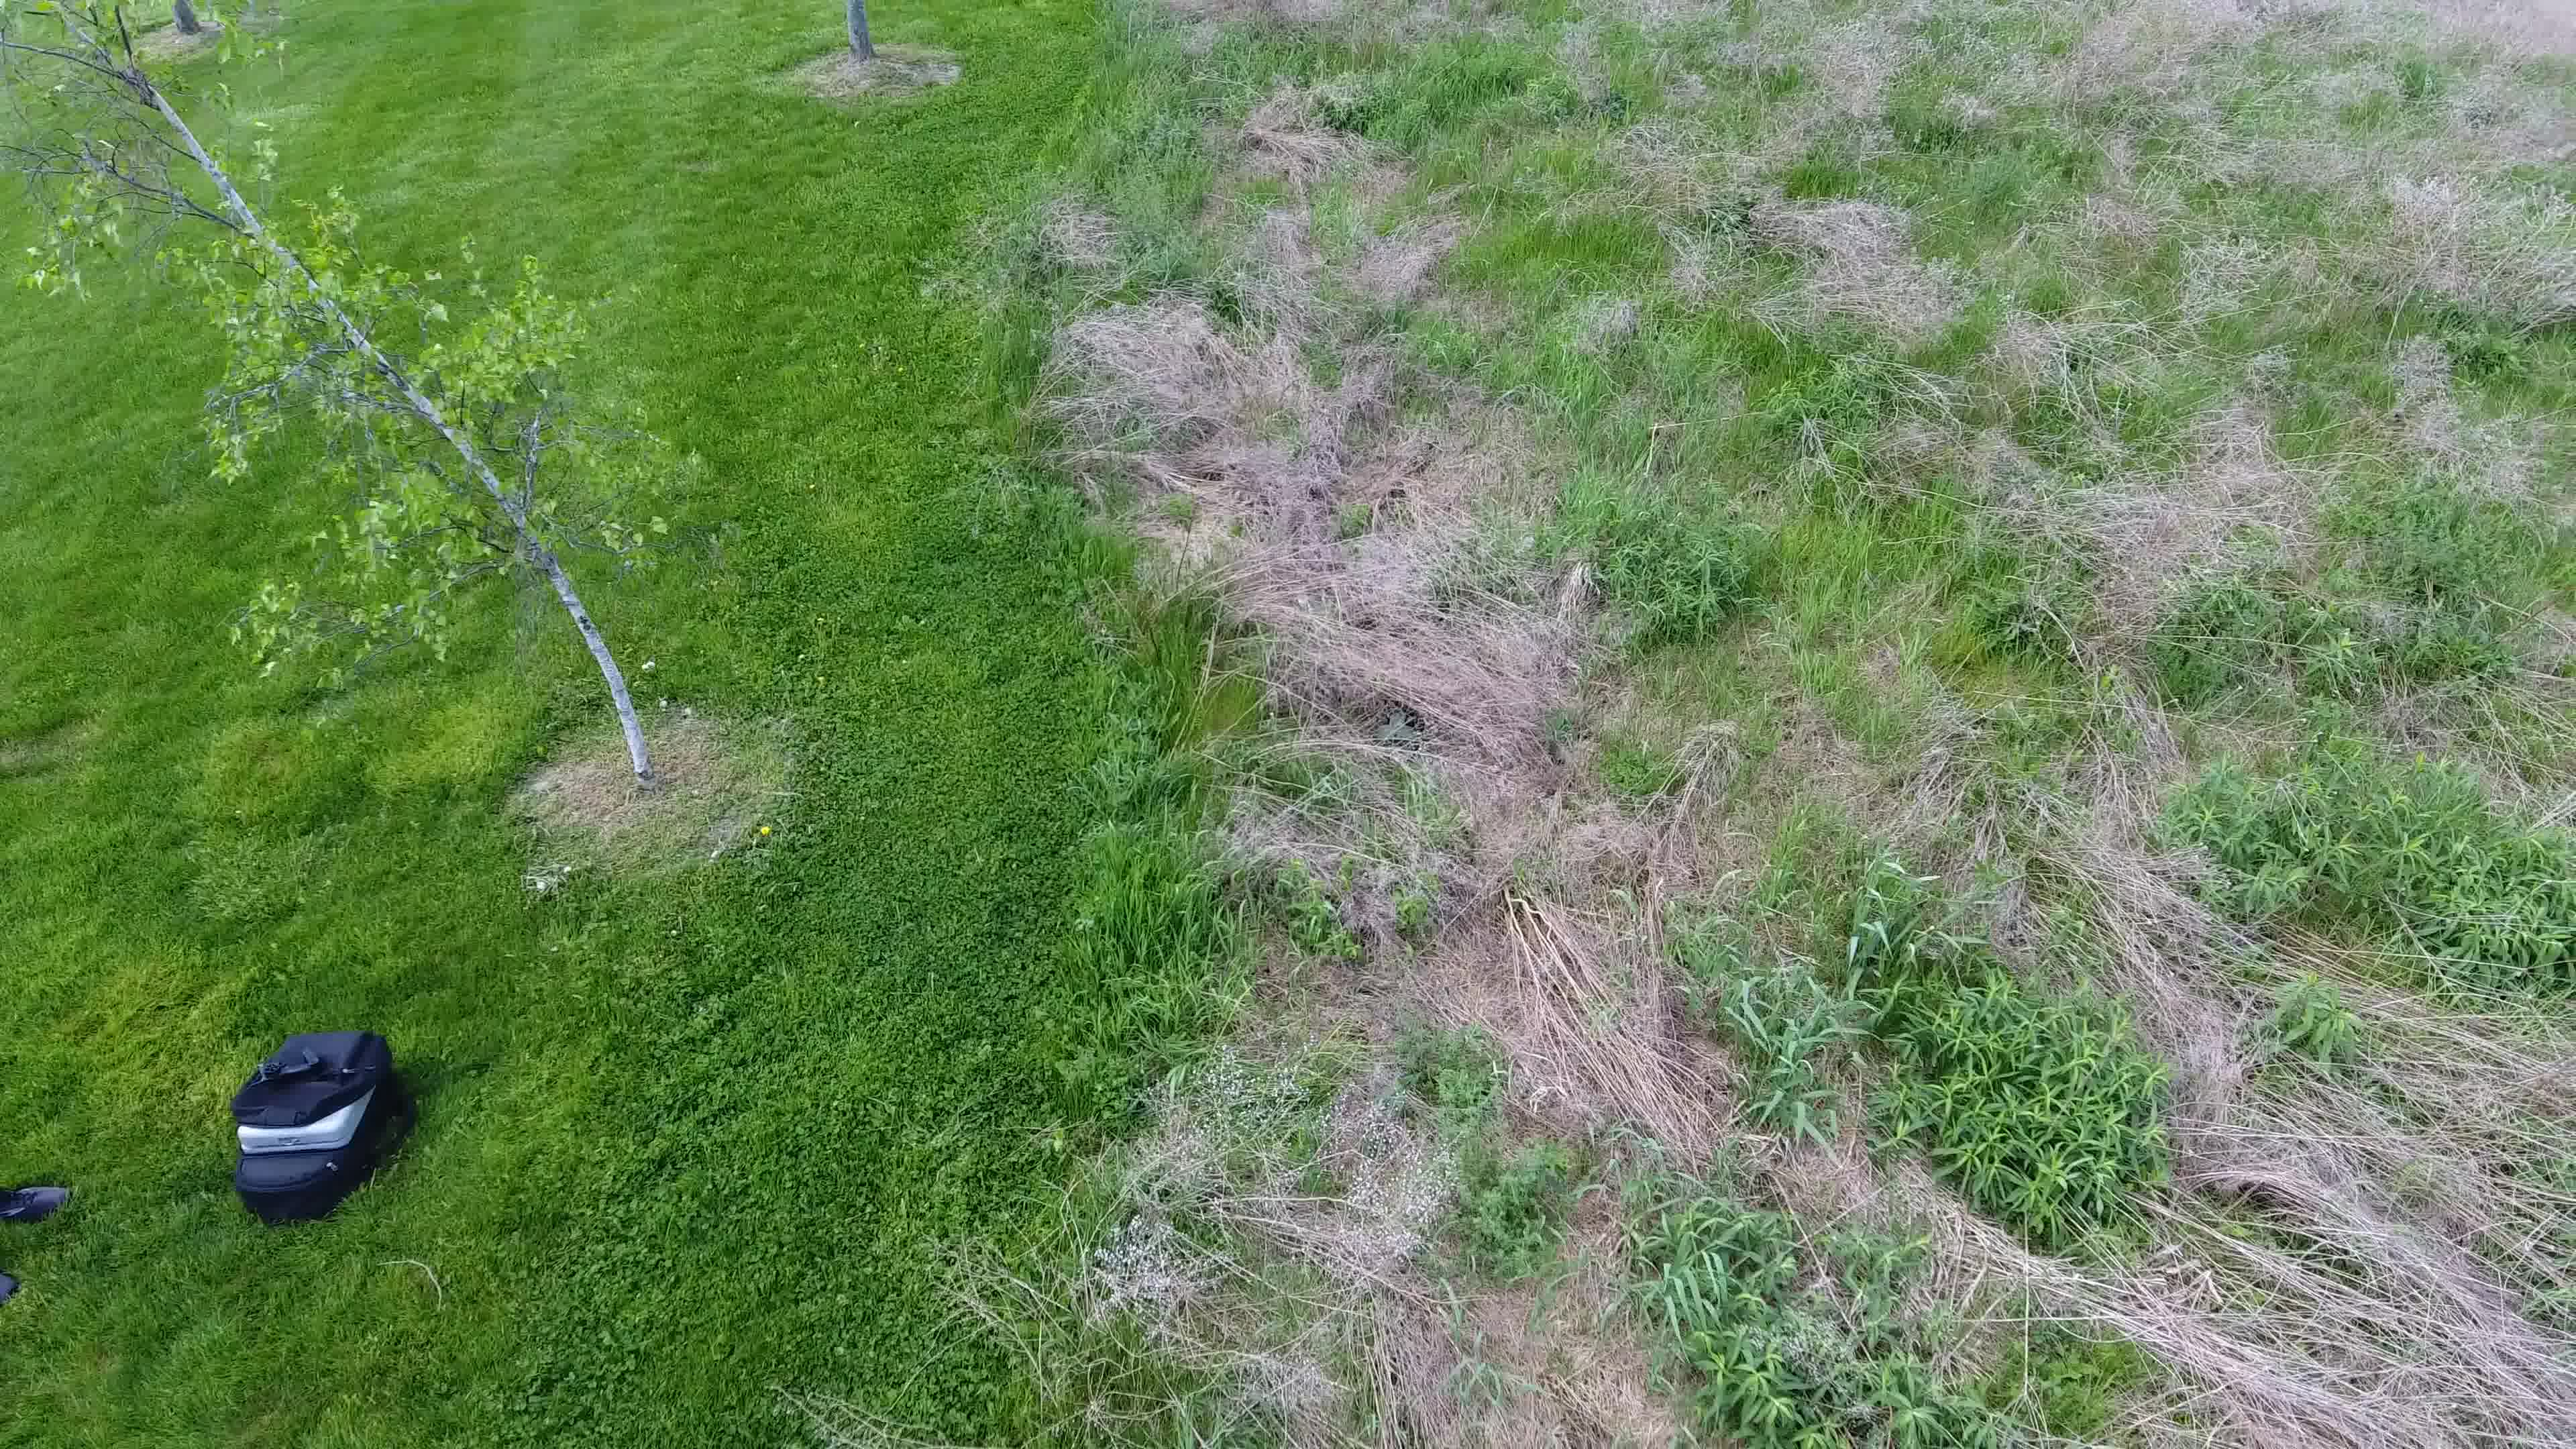transporter9: (1375, 704, 1424, 747)
